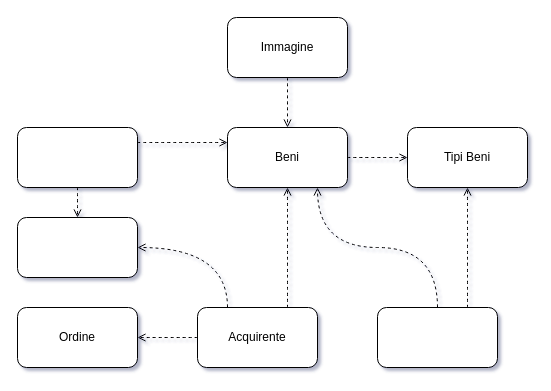
Image size: 551x391. Some labels were removed from this diagram. Here are the shapes that lost their labels. From the top down, the centre of each, then its label:
point (77, 157): Venditore
point (77, 247): Feedback
point (437, 337): Amministratore
